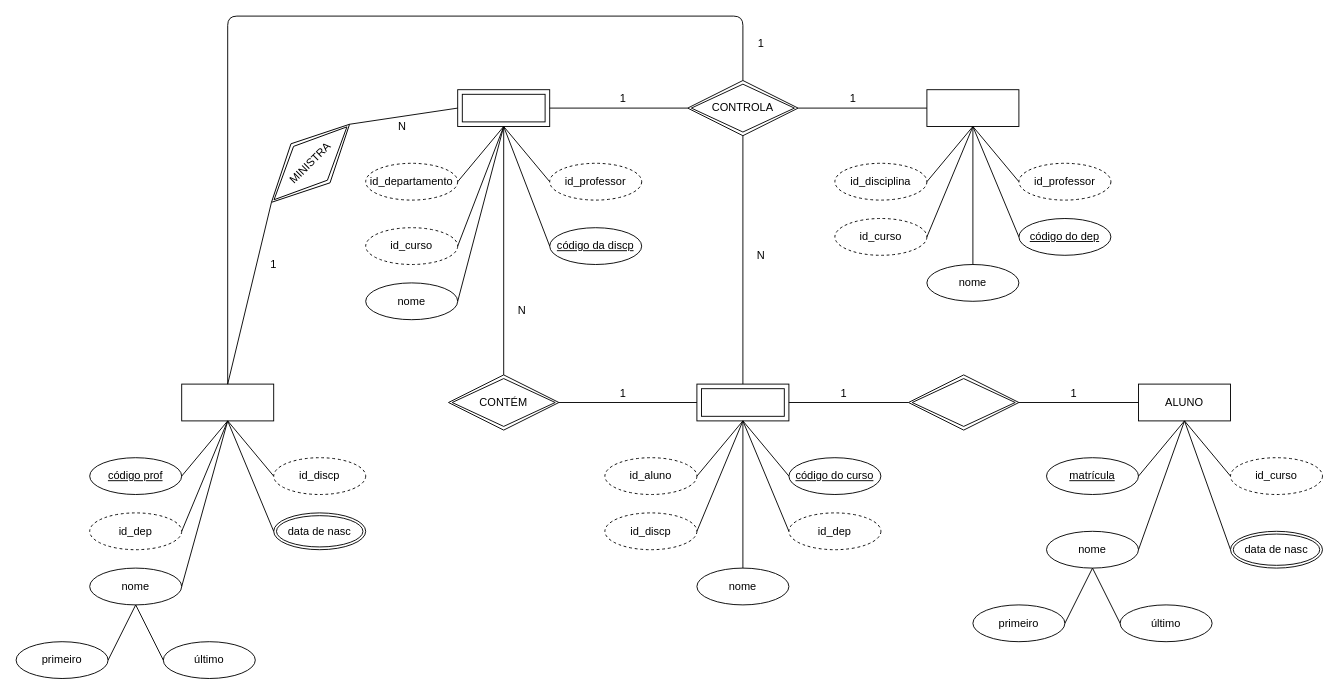
The diagram is 1339 pixels wide and 695 high, and some of its shapes have lost their labels. Here are the shapes that lost their labels. From the top down, the box of each, then its label:
(457, 89, 550, 126): DISCIPLINA
(926, 89, 1019, 126): DEPARTAMENTO
(181, 383, 274, 421): PROFESSOR
(696, 383, 789, 421): CURSO
(908, 374, 1019, 430): ESTUDA
